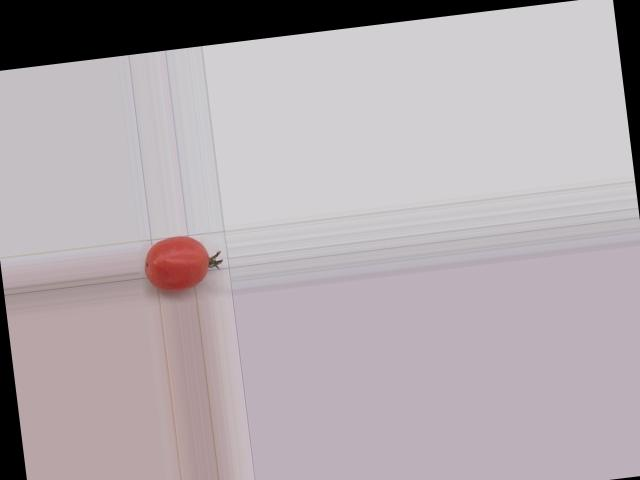tomato: (141, 232, 212, 294)
